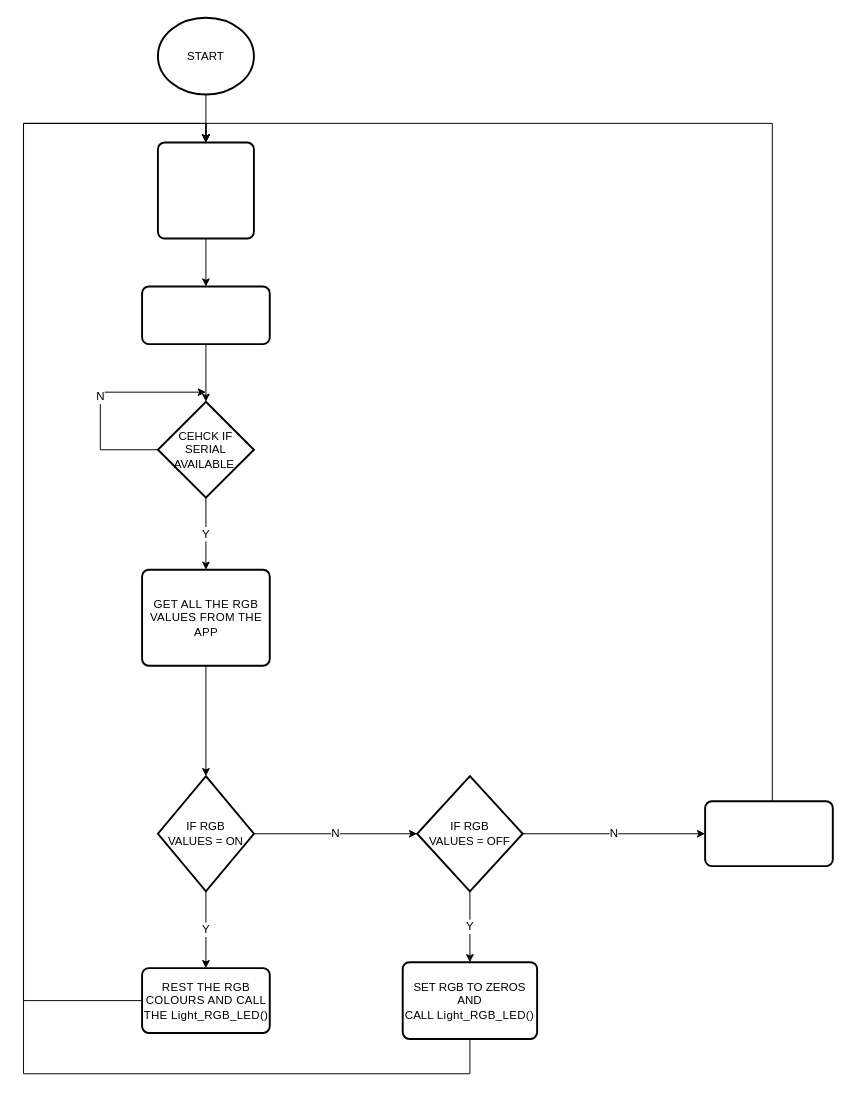
The diagram is 851 pixels wide and 1098 high, and some of its shapes have lost their labels. Each missing label, with the centre of its shape:
CALL THE Light_RGB_LED() REST THE RGB COLOURS: point (768, 833)
SET UP PINS BLUETOOTH, LED(RED, GREEN, BLUE): point (205, 190)
SET UP: Light_RGB_LED(): point (205, 315)
